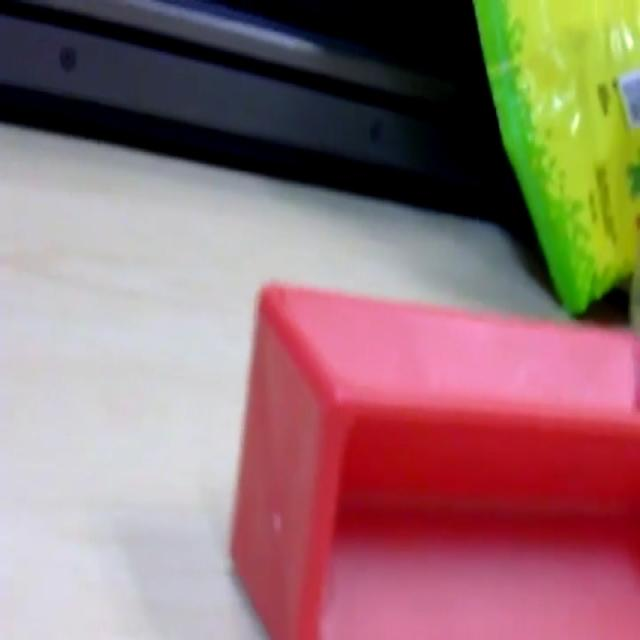red_block: (227, 276, 638, 636)
